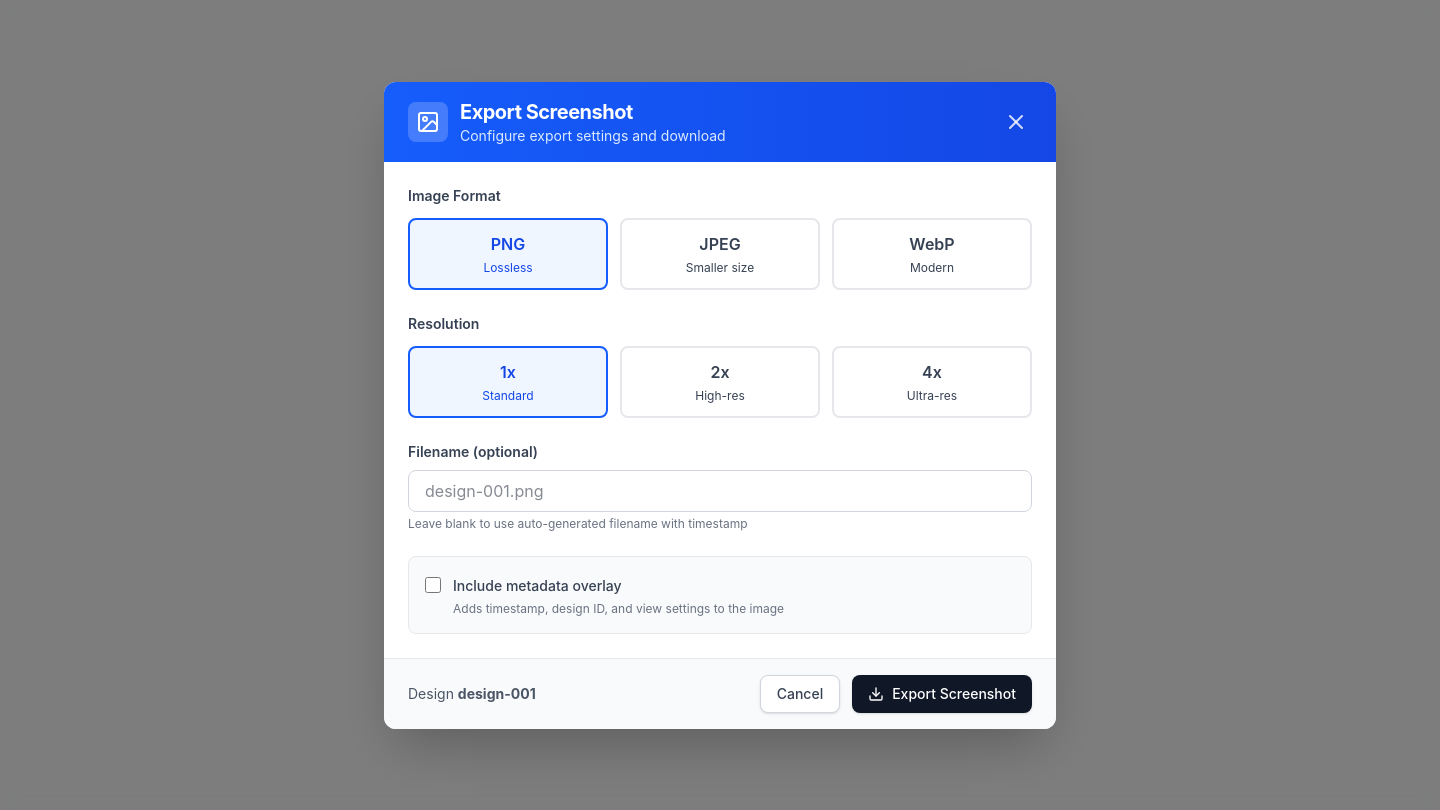
Test: ExportDialog - Extended Coverage › State Management - Quality Slider › should show quality slider for JPEG format
Step 1. Click the button "JPEG Smaller size" → coordinates (720, 254), box [620,218,820,290]
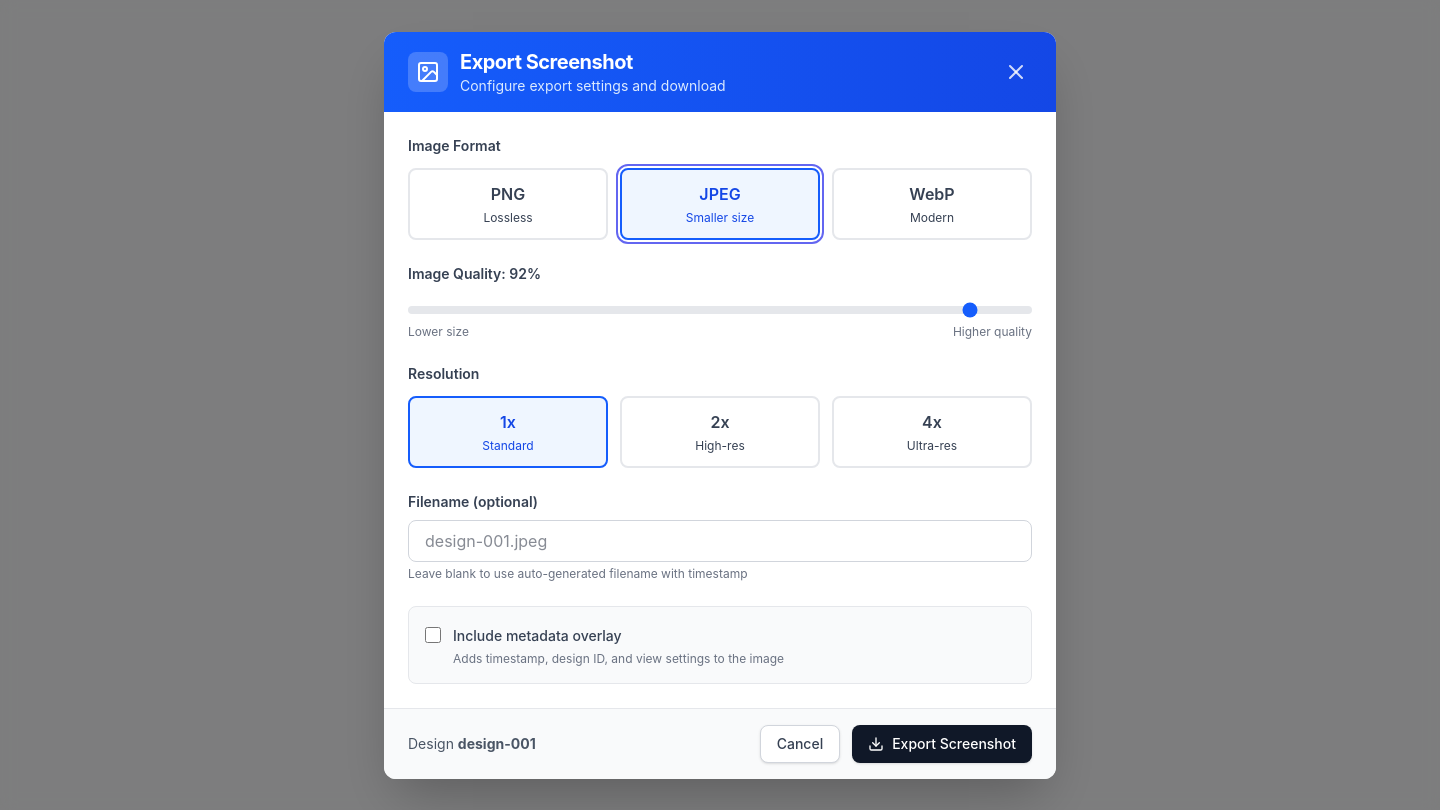
Now the slider is shown, box [408,306,1032,314]
